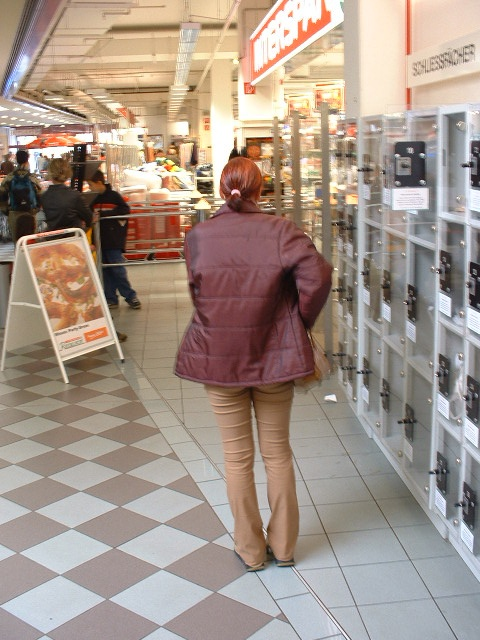person: (170, 153, 333, 570)
